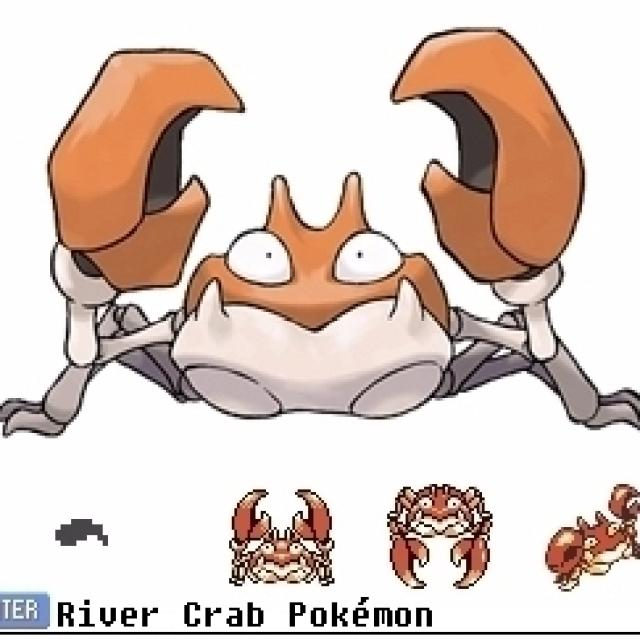Krabby: (46, 39, 590, 419), (208, 480, 344, 587), (384, 471, 495, 602), (536, 477, 640, 599)
